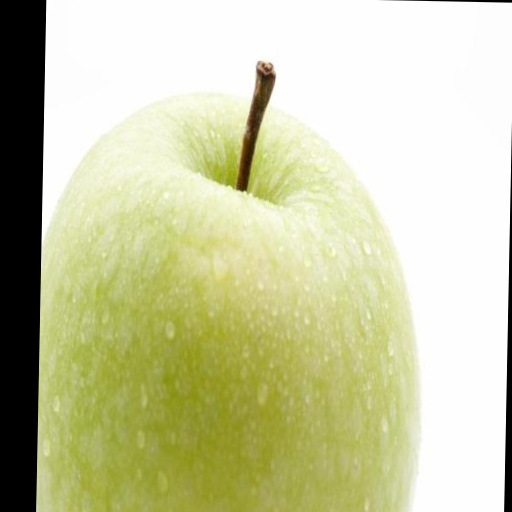fruit: (36, 94, 418, 512)
